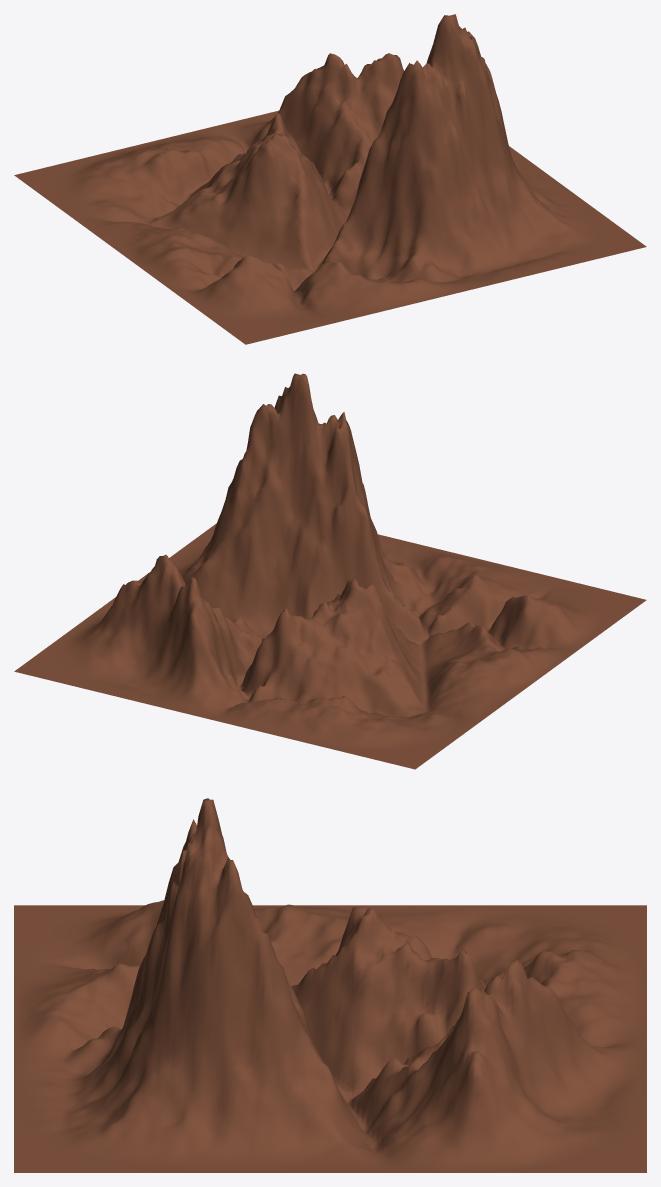
The picture shows the model from 3 angles, top to bottom: view 1: azimuth 30°, elevation 25°; view 2: azimuth 150°, elevation 25°; view 3: azimuth 270°, elevation 25°; orthographic projection. The views are drawn at different scales.
Parts seen in each view (by area): view 1: Landscape.002; view 2: Landscape.002; view 3: Landscape.002.
Boxes of the visible parts, bbox=[...] form: Landscape.002: bbox=[14, 14, 646, 344]; Landscape.002: bbox=[14, 373, 646, 769]; Landscape.002: bbox=[14, 798, 646, 1172].
Bounding box in the file's own units: 1763 × 986 × 1763.
